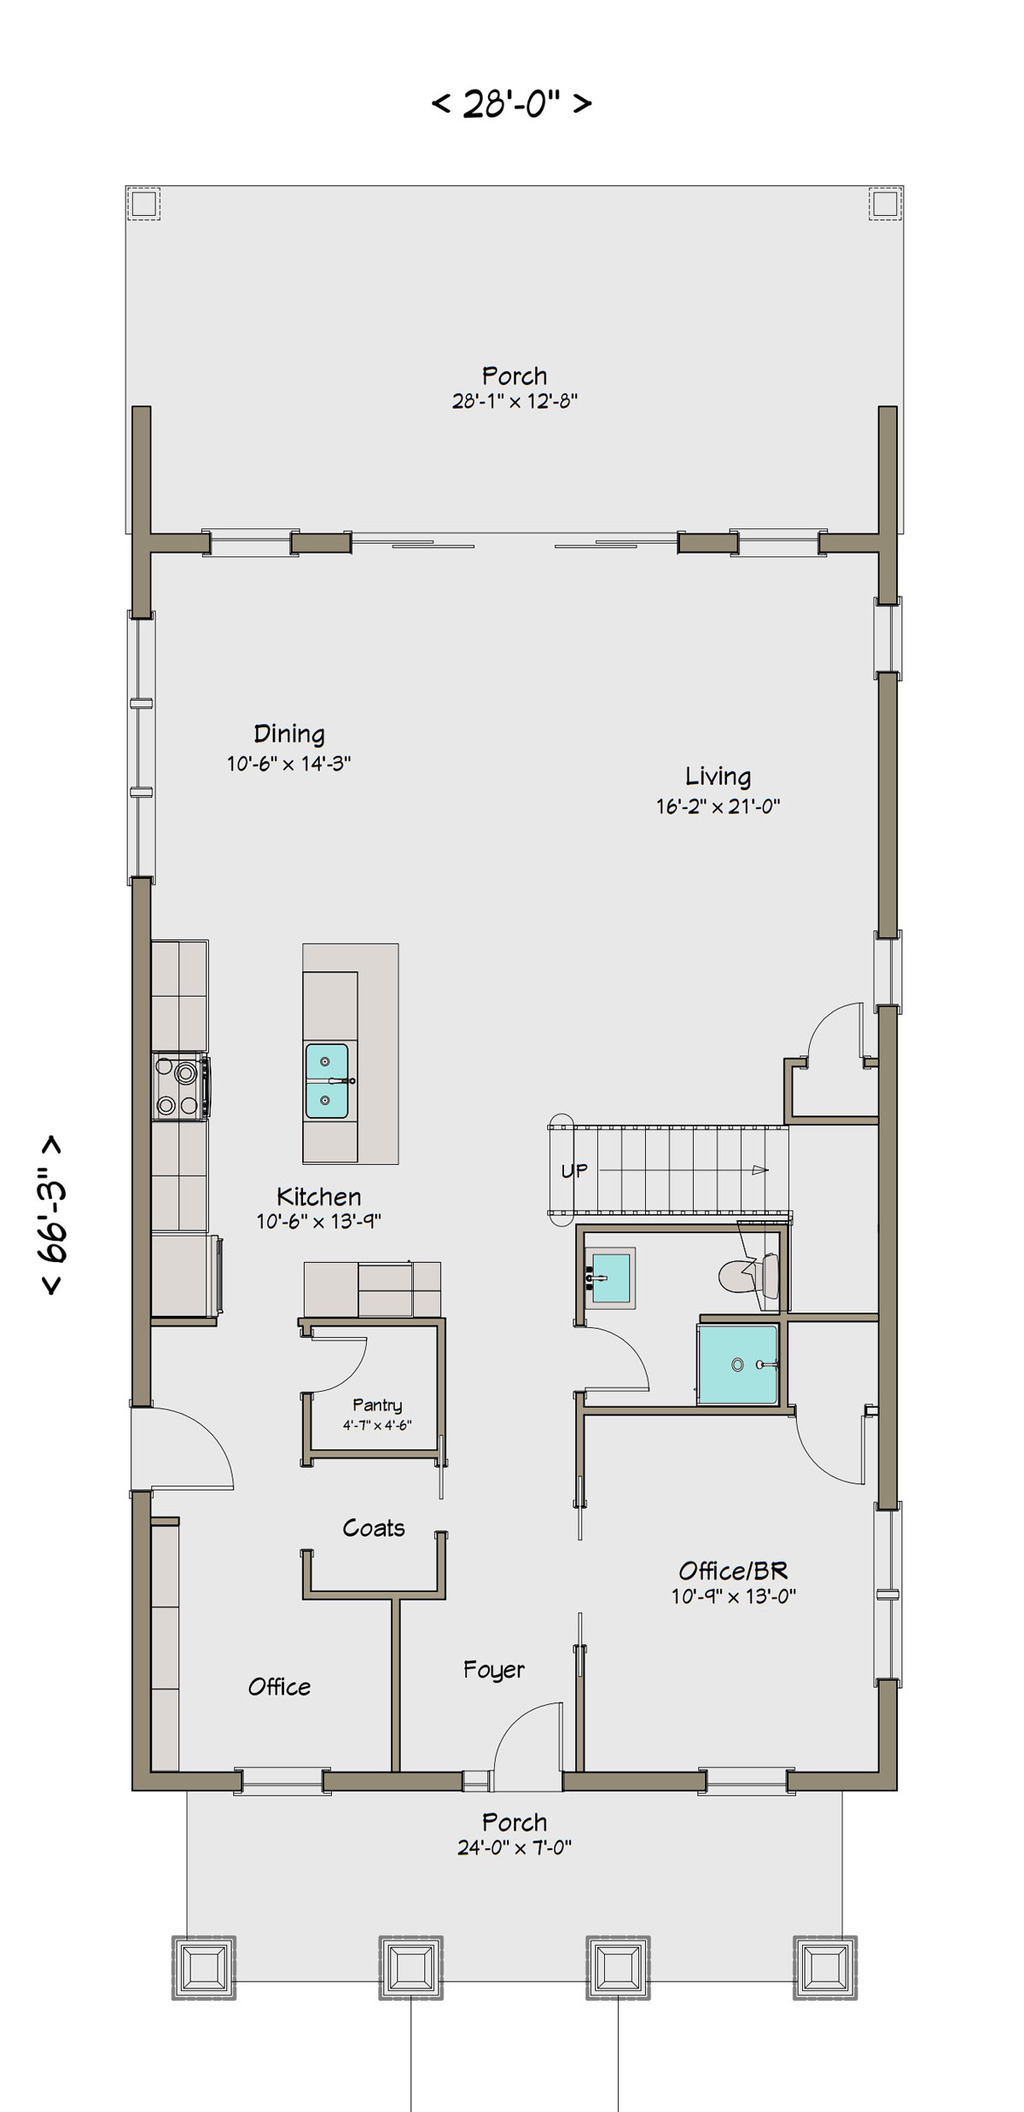door: (462, 1658, 569, 1804), (129, 1391, 249, 1494), (779, 1401, 883, 1487), (569, 1311, 652, 1404), (309, 1319, 389, 1404), (795, 994, 872, 1071)
large_sink: (705, 1245, 790, 1315)
small_sink: (579, 1241, 652, 1331)
stairs: (509, 1100, 909, 1249)
twin_sink: (299, 1041, 365, 1121)
window: (682, 1744, 822, 1821), (715, 504, 839, 571), (238, 1754, 354, 1812), (862, 591, 926, 694), (865, 1514, 901, 1690), (212, 524, 309, 568)
